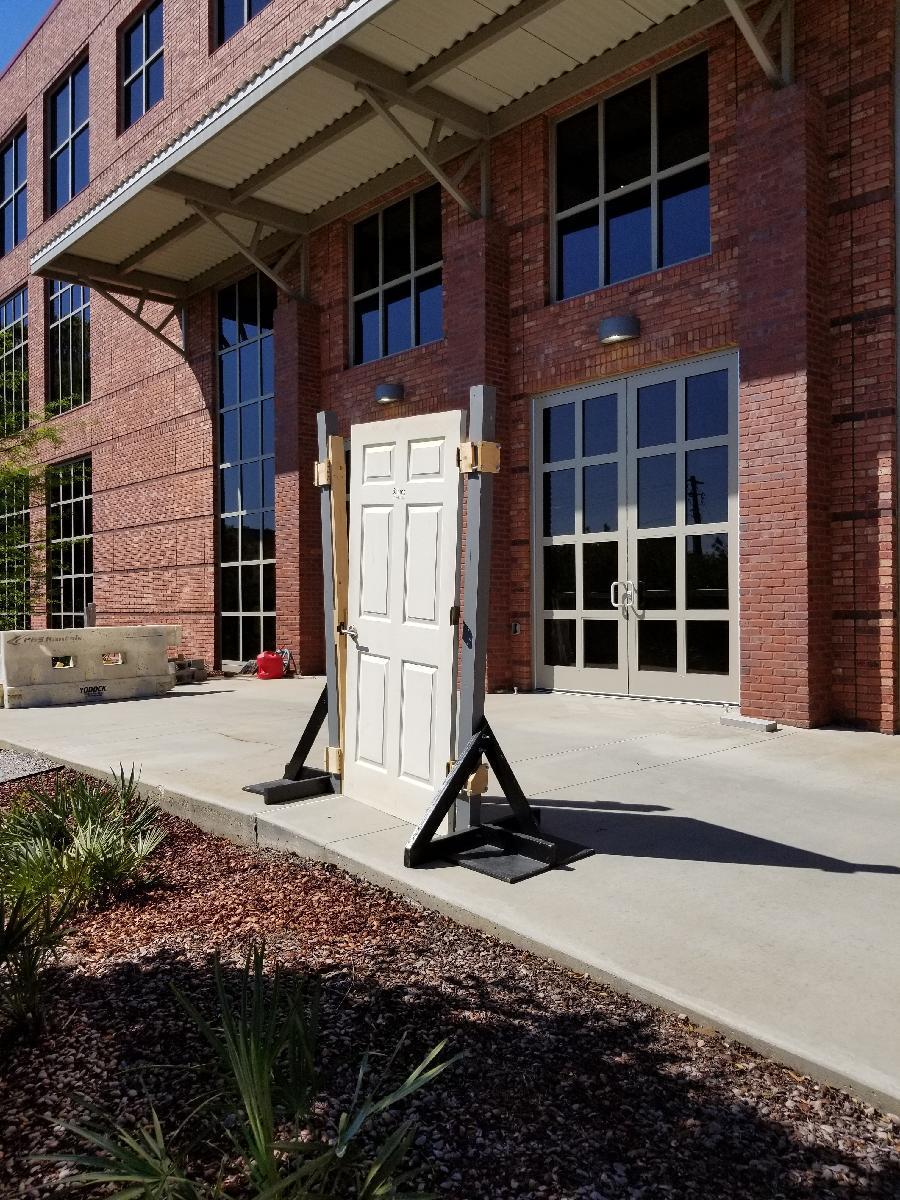door: (343, 407, 466, 829), (630, 364, 744, 700), (533, 383, 629, 700)
handle: (605, 572, 626, 614), (338, 620, 360, 644), (626, 577, 640, 611)
